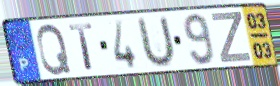4: (112, 19, 140, 71)
9: (181, 11, 217, 68)
Q: (35, 22, 73, 77)
T: (67, 22, 96, 73)
U: (137, 14, 177, 70)
Z: (210, 11, 254, 65)
